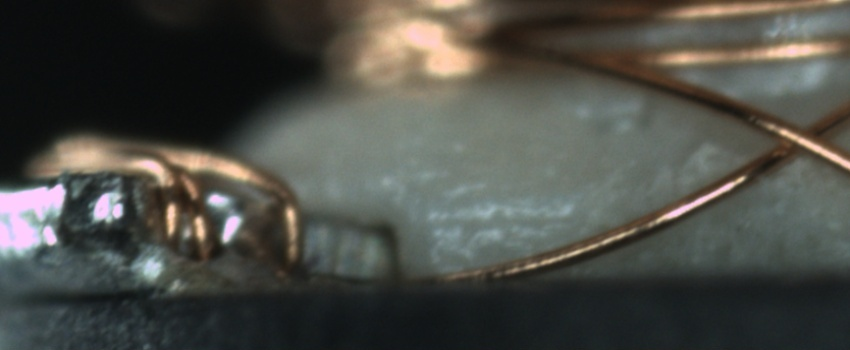CL: (749, 104, 844, 171)
DL: (422, 188, 597, 252)
TE: (21, 123, 318, 288)
